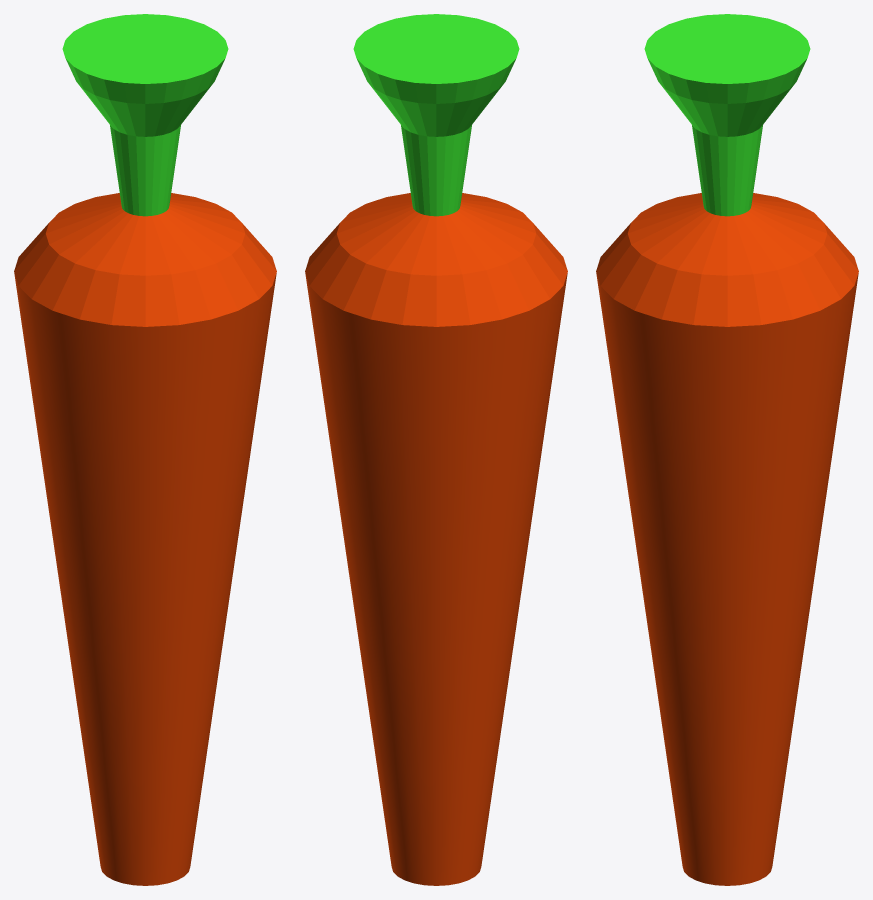
Rendered from carrot2.fbx.
3 renders of one model, left to right at view 1: azimuth 30°, elevation 25°; view 2: azimuth 150°, elevation 25°; view 3: azimuth 270°, elevation 25°, orthographic.
Visible parts, largest first — view 1: Cone001; view 2: Cone001; view 3: Cone001.
Boxes of the visible parts, <box> form: Cone001: <box>14,14,276,885</box>; Cone001: <box>305,14,567,885</box>; Cone001: <box>596,14,858,885</box>.
Size of the model in its own units: 20 by 68.67 by 20.
